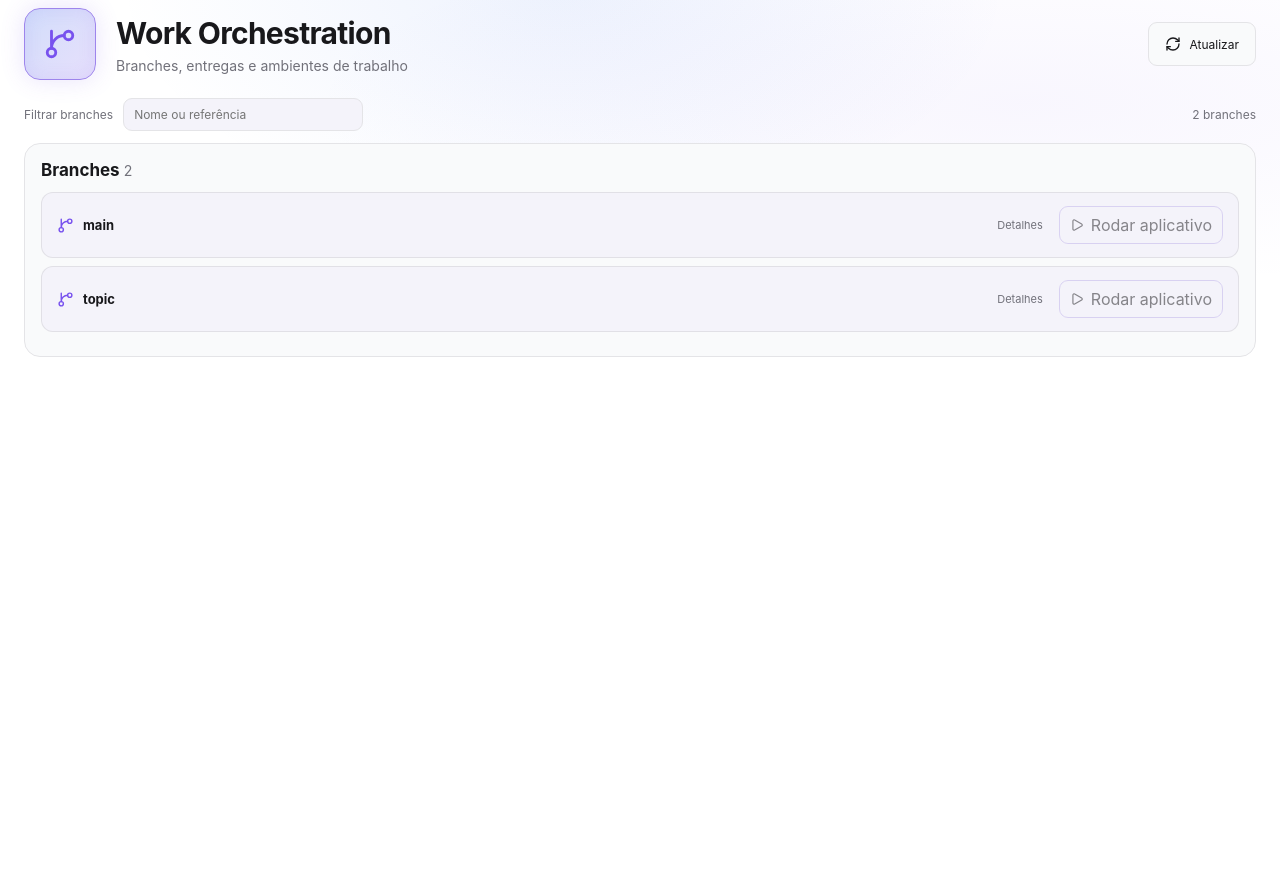
Test case: requires a preview and explicit preservation consent before branch discard
The width and height of the screenshot is (1280, 887).
Click the text "topic": click(99, 299) left=83, top=291, right=115, bottom=307
(page scrolled)
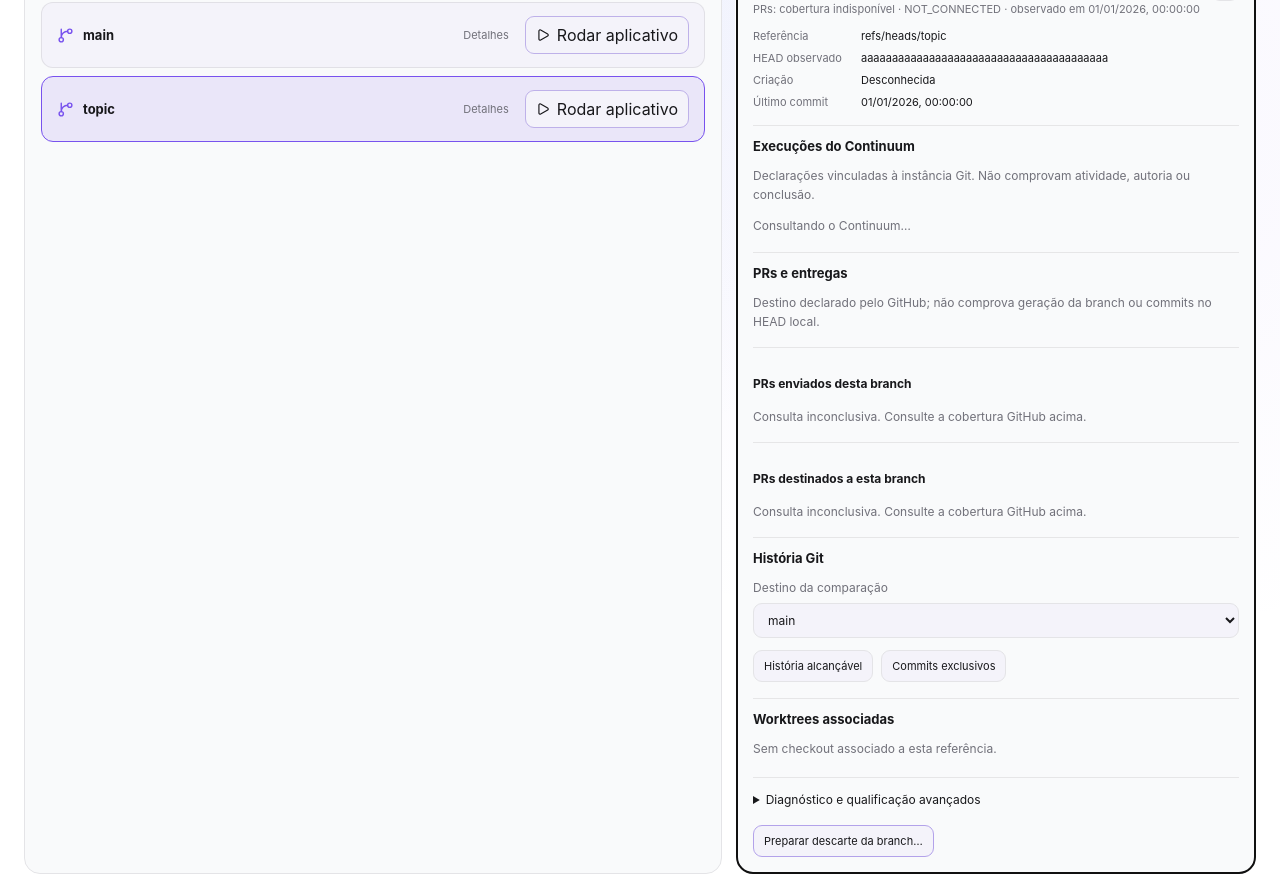
Click the button "Preparar descarte da branch…": click(843, 840) left=753, top=824, right=934, bottom=856
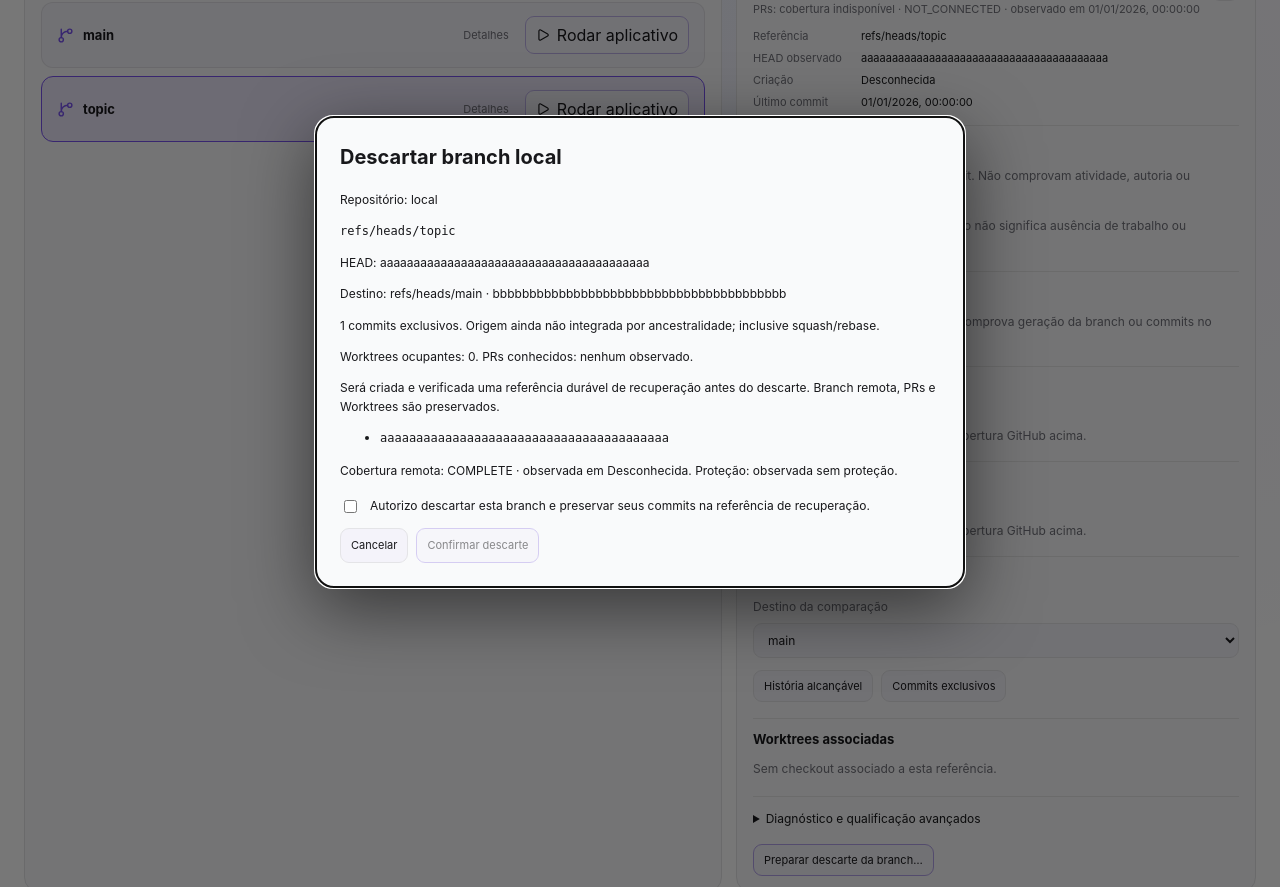
Expected: the button "Confirmar descarte" is disabled, left=416, top=528, right=539, bottom=563
Click the checkbox: click(350, 506) left=344, top=500, right=357, bottom=513
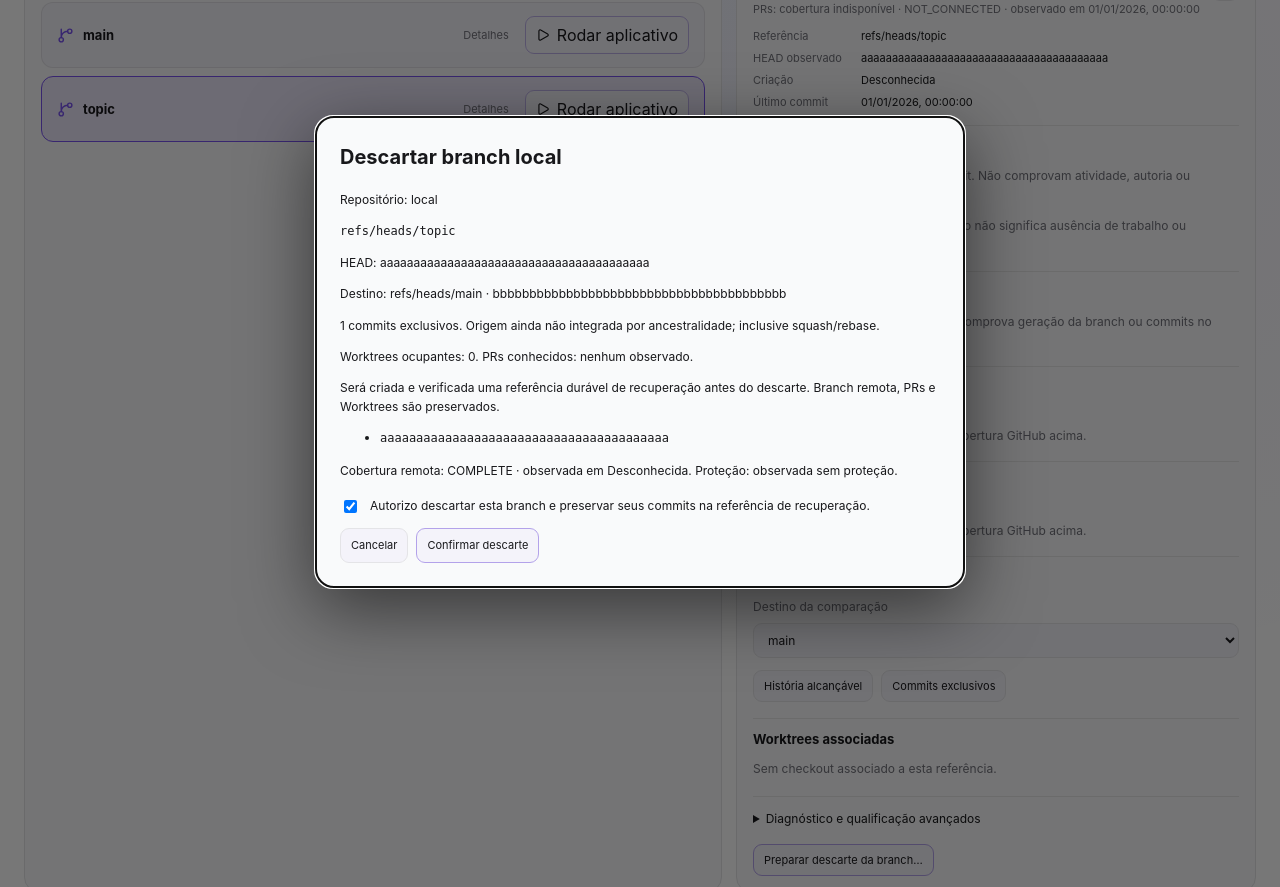
Click the button "Confirmar descarte": click(478, 546) left=416, top=528, right=539, bottom=563
(page scrolled)
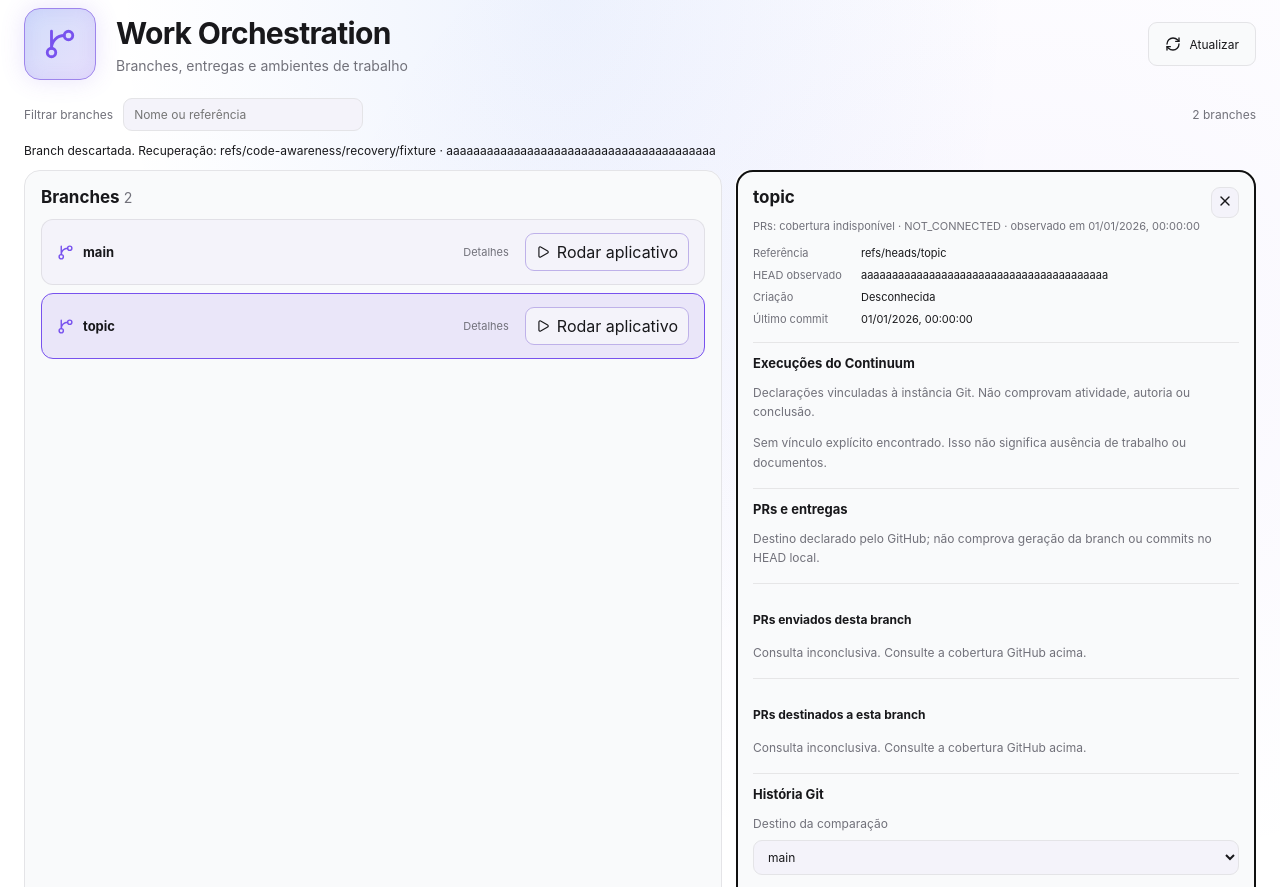
Expected: the button "Atualizar" is enabled, left=1148, top=22, right=1256, bottom=66
Expected: the text "Branch descartada. Recuperação:" is shown, left=24, top=143, right=716, bottom=158
